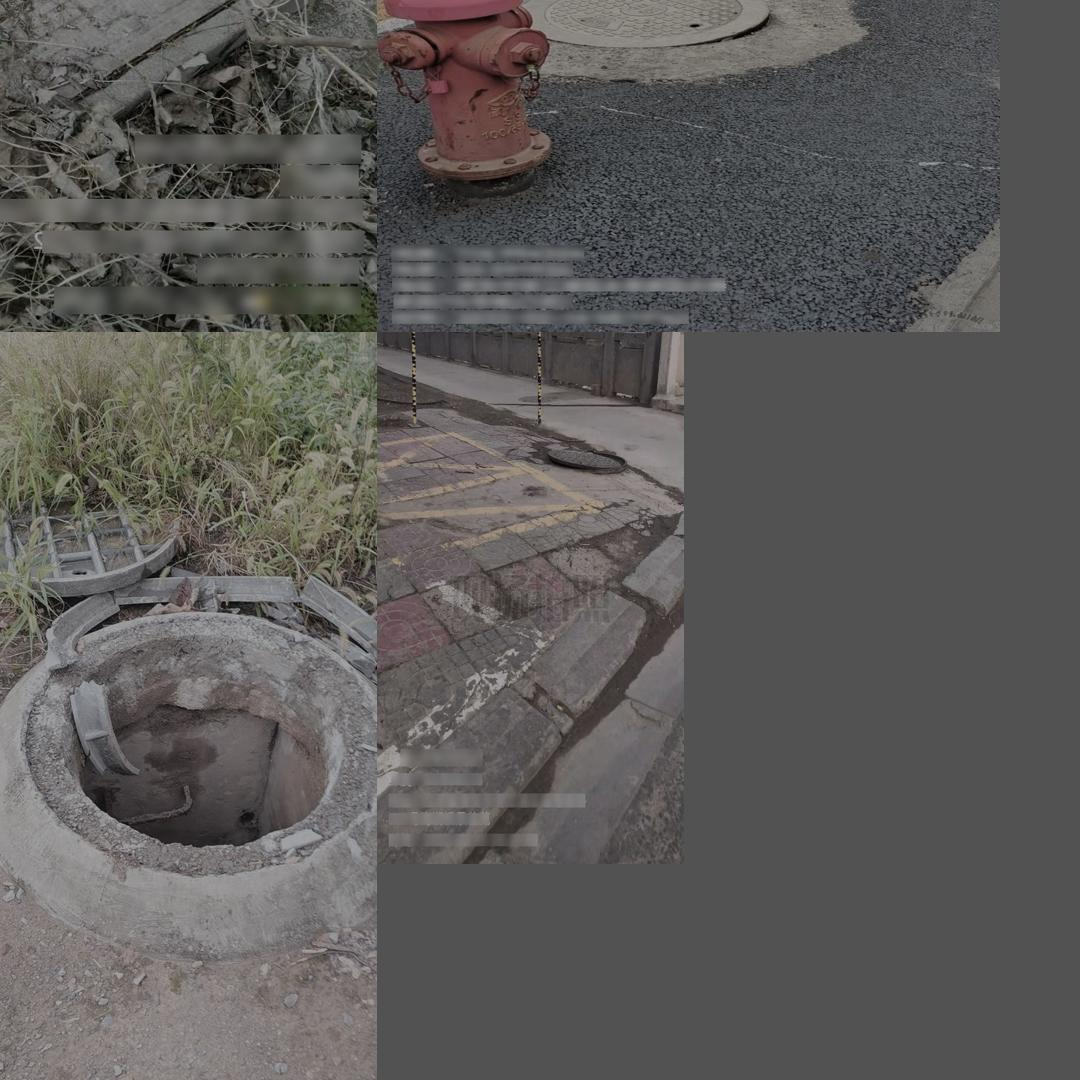uncovered: (0, 417, 366, 957), (0, 0, 334, 144), (516, 0, 796, 65), (537, 434, 632, 480)
